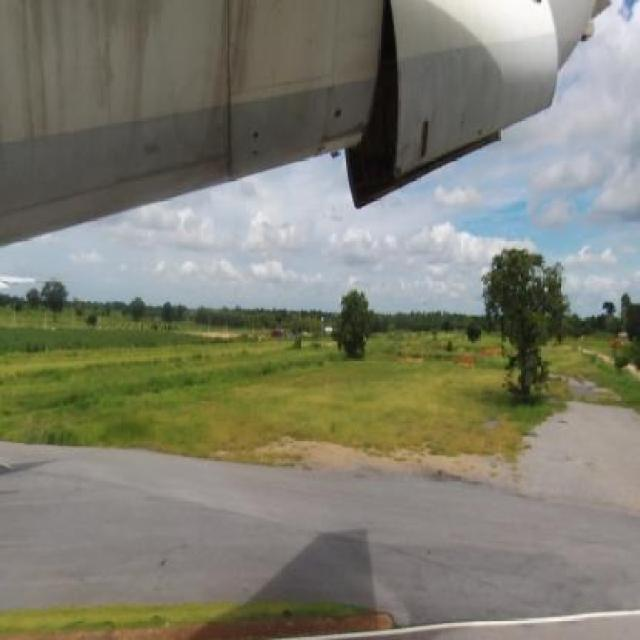Rust: (81, 1, 173, 161), (1, 1, 77, 158), (200, 0, 265, 157), (398, 44, 462, 171), (270, 2, 325, 138)
